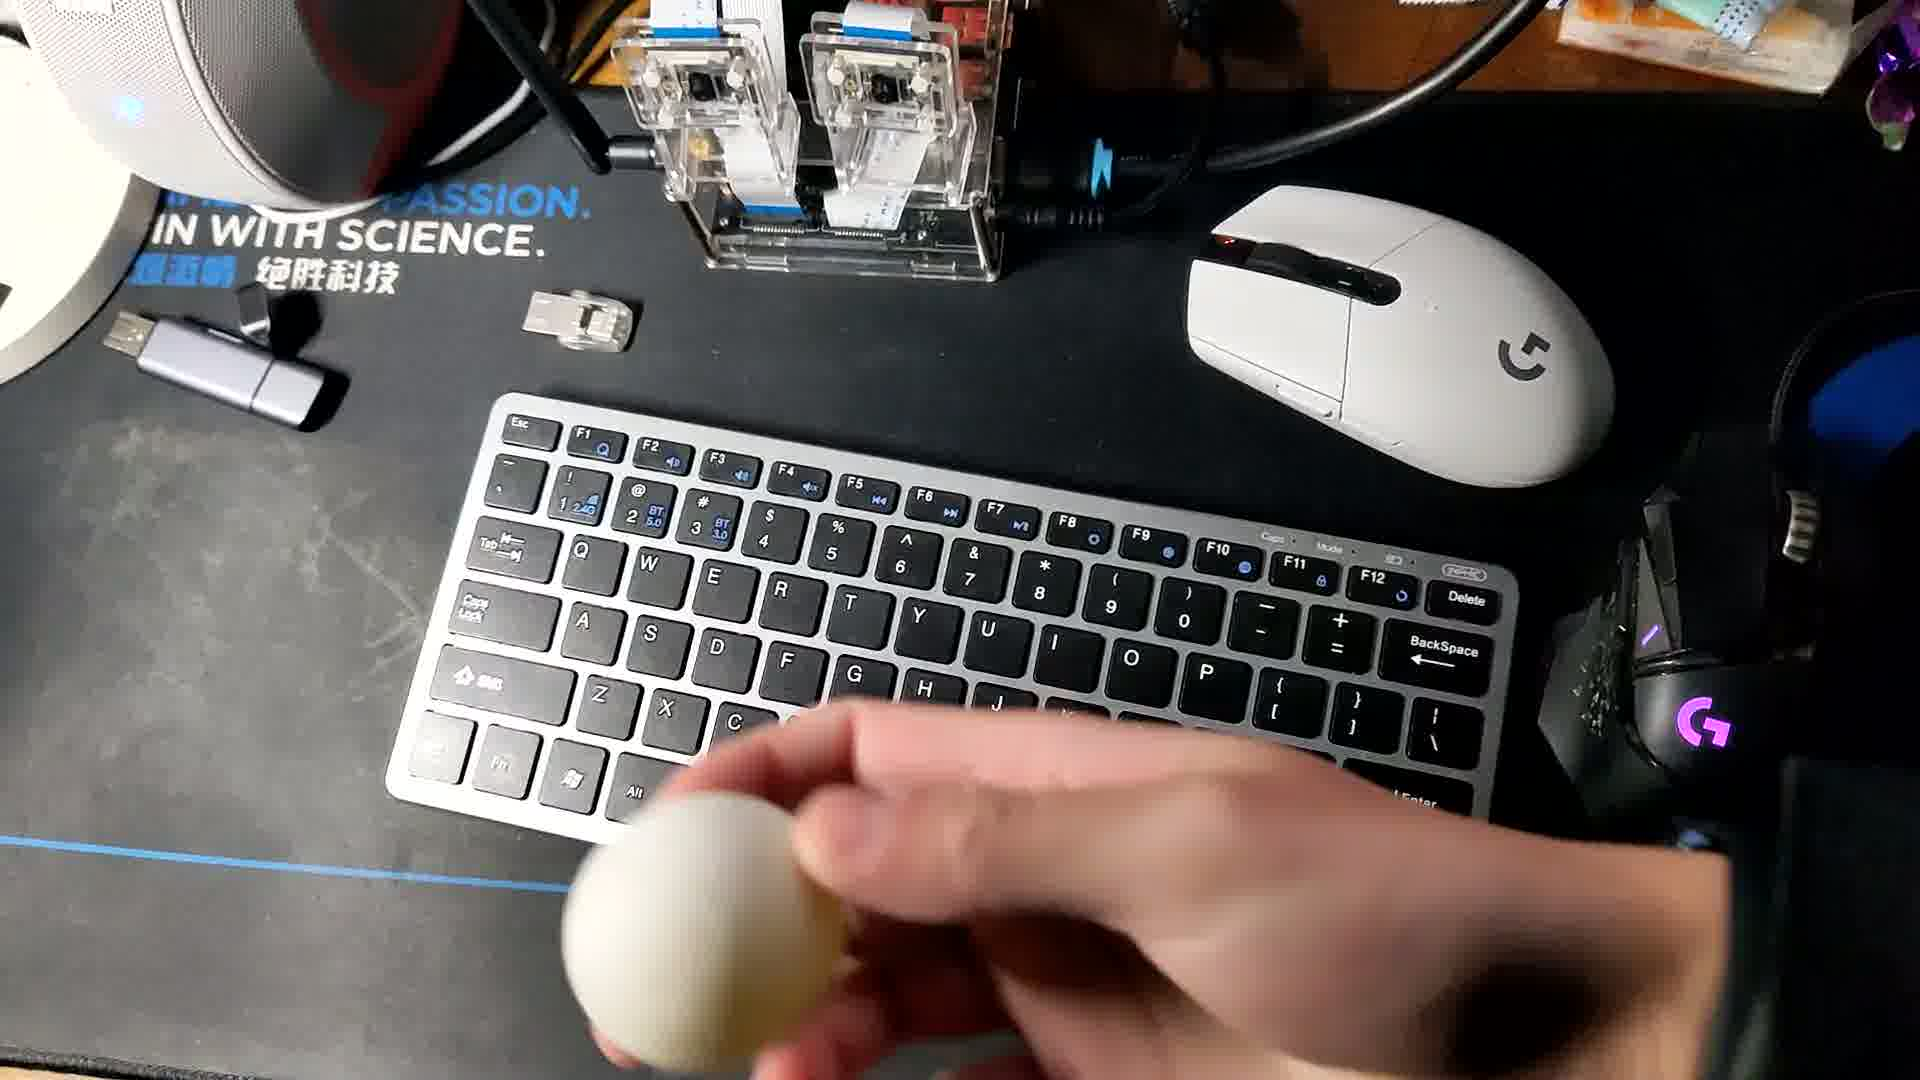Ball: (560, 789, 840, 1071)
